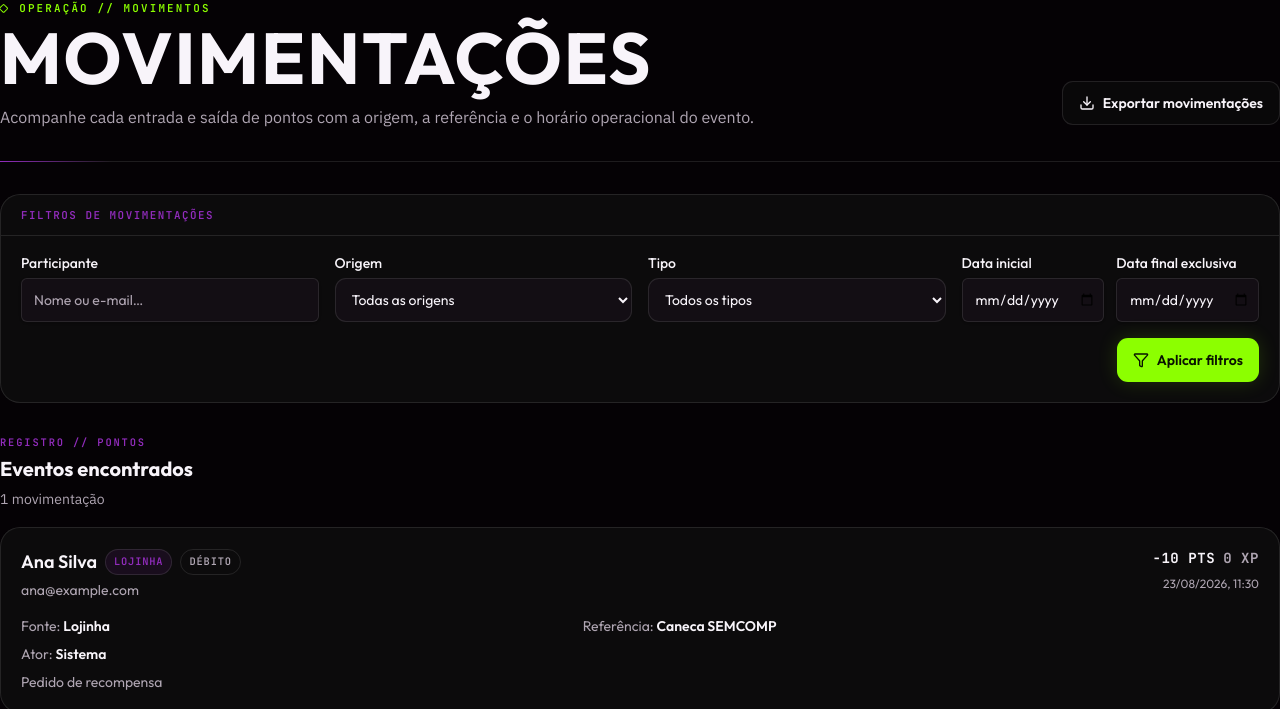
Test: MovementsClient › validates the exclusive date range before applying filters
The image size is (1280, 709).
Expected: the heading "Ana Silva" is shown, x1=21 y1=548 x2=97 y2=576
Type "2026-08-24" into the date field labelled "Data inicial" at (1033, 300), box x1=962 y1=278 x2=1104 y2=322
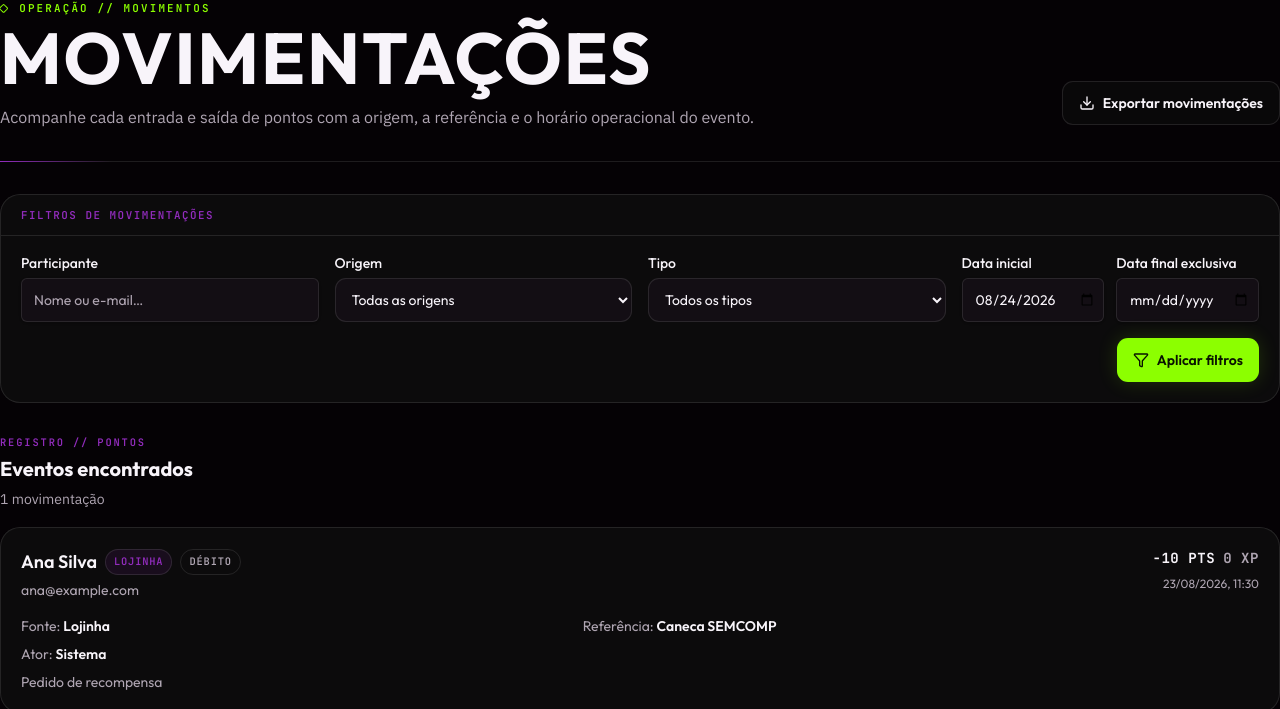
Type "2026-08-24" into the date field labelled "Data final exclusiva" at (1188, 300), box x1=1116 y1=278 x2=1259 y2=322
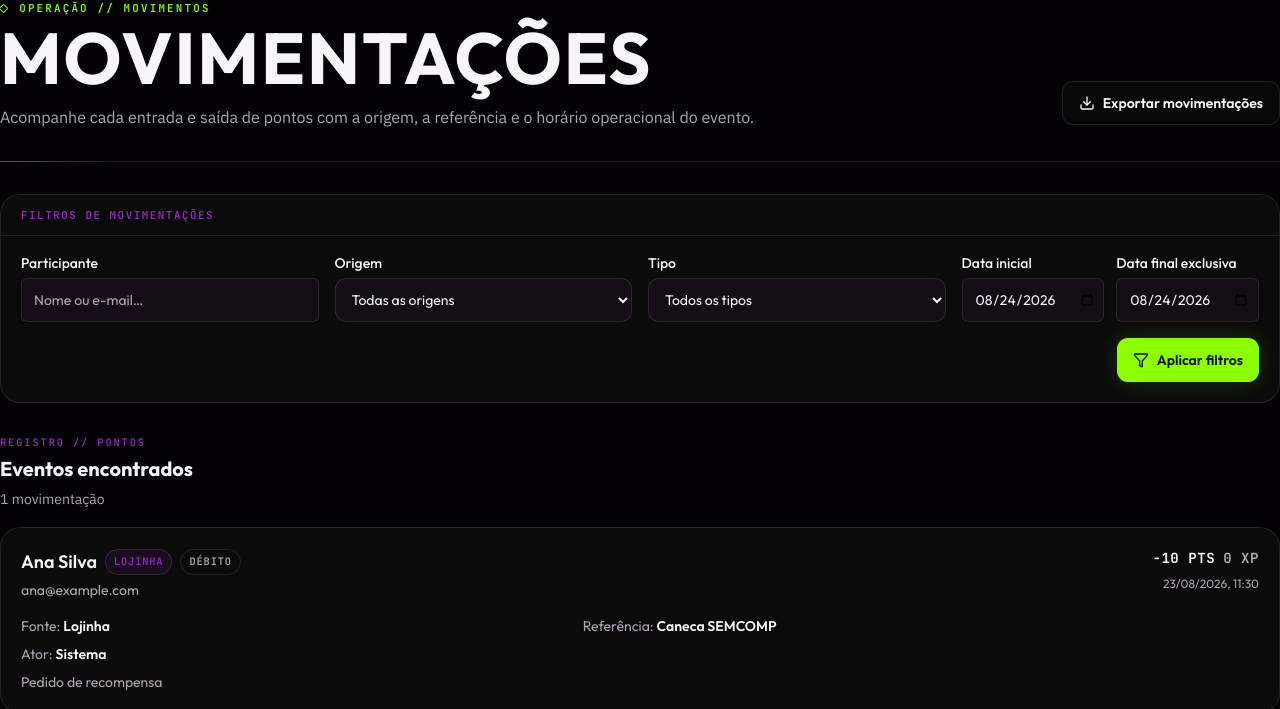
Click the button "Aplicar filtros" at (1188, 360), box x1=1117 y1=338 x2=1259 y2=382
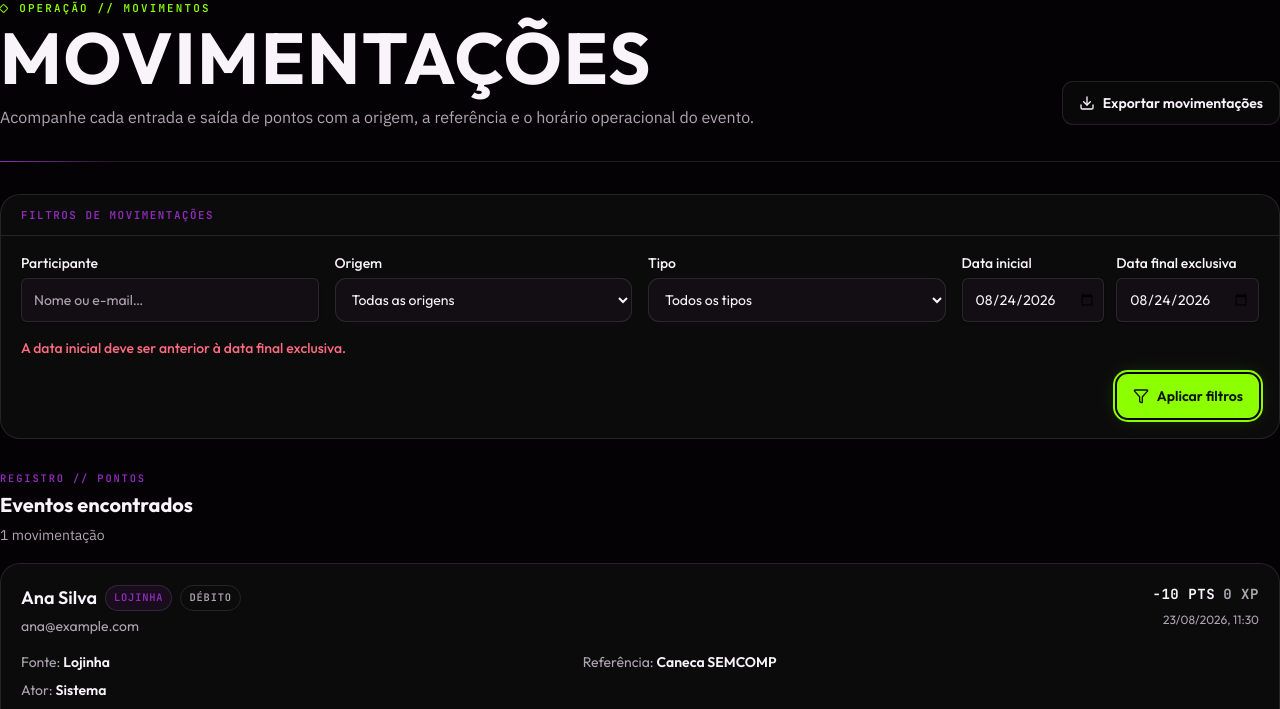
Expected: the message reads "A data inicial deve ser anterior à data final exclusiva.", x1=21 y1=339 x2=346 y2=357
